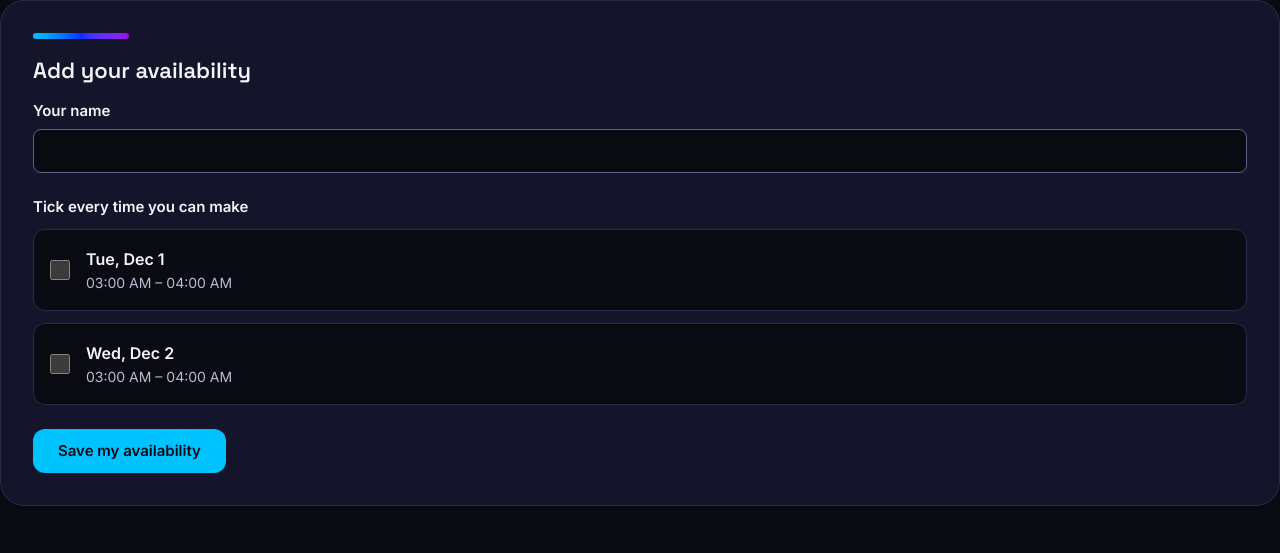
Test: VoteForm › requires a name before sending
Click the button "Save my availability": (129,451) [33,429,226,473]
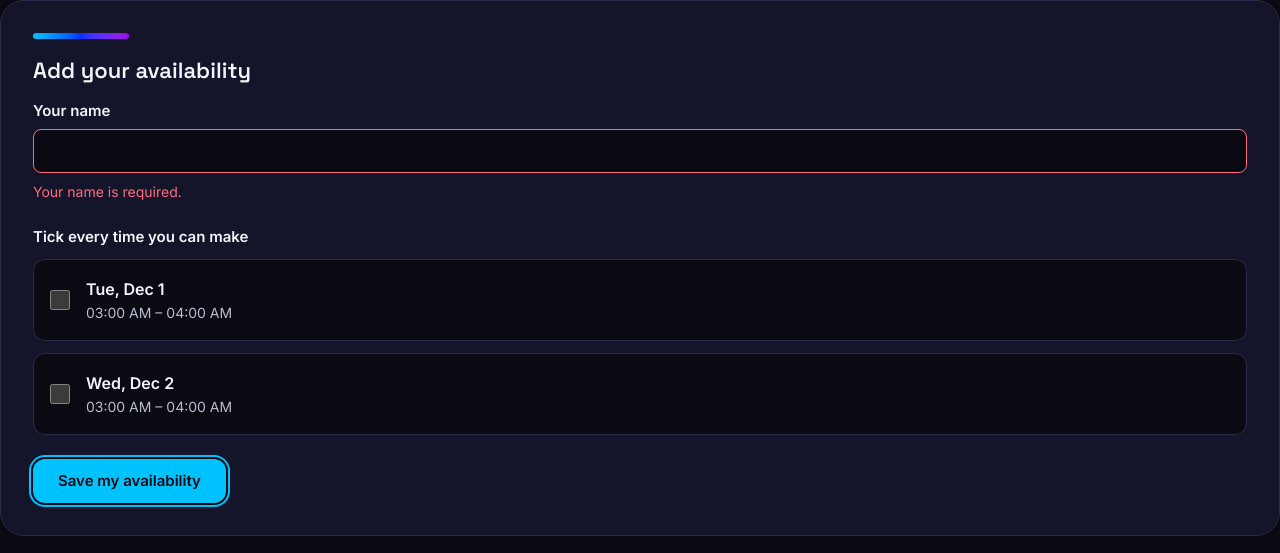
Result: the message reads "Your name is required." at [33,183,182,200]
